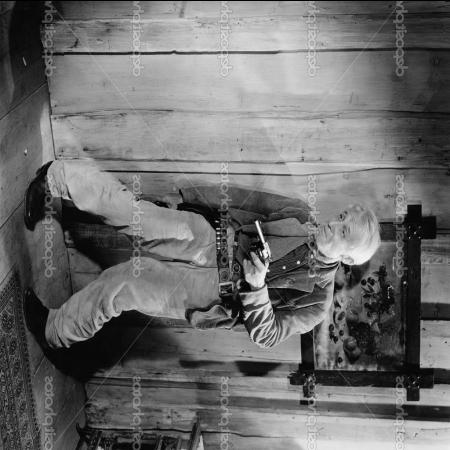Pistol: (246, 212, 273, 298)
